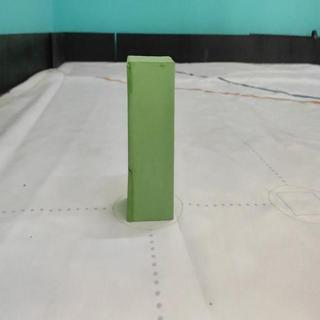greenbox: (125, 55, 175, 223)
